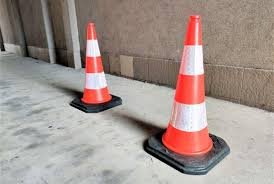cones: (142, 14, 231, 174), (64, 22, 124, 112)
